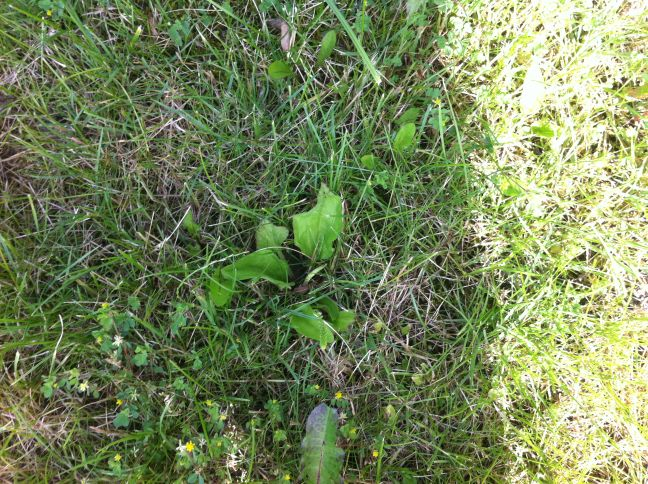weed1: (210, 184, 356, 349)
